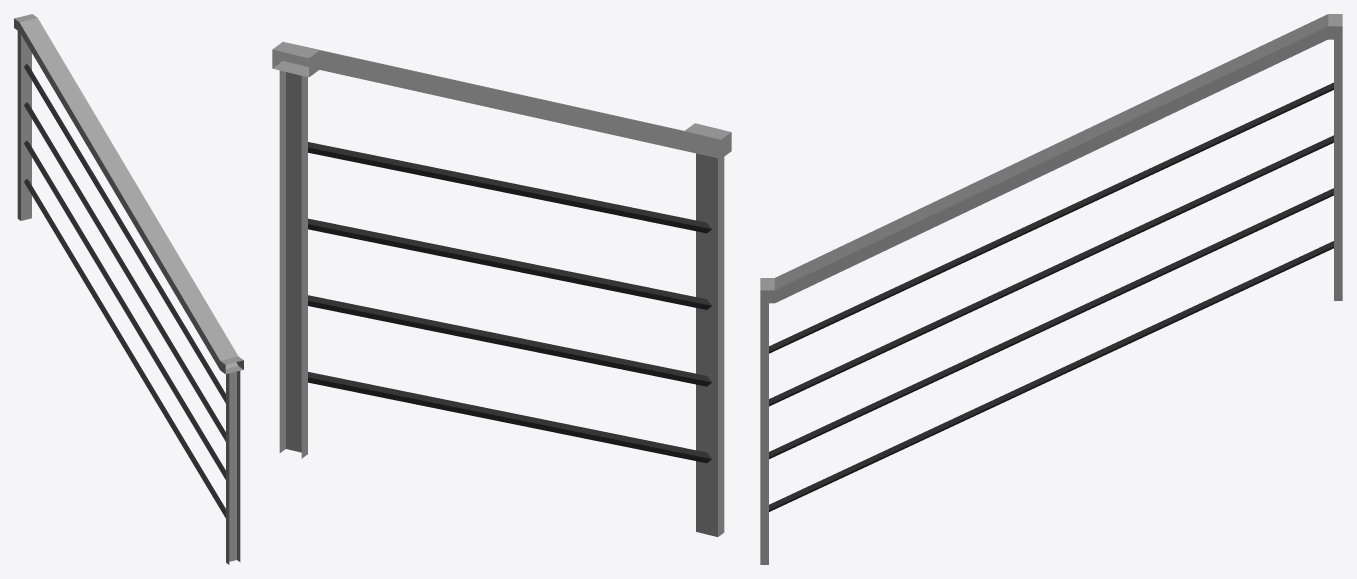
Rendered from Railings_D.fbx.
3 views of the same model, side by side, from view 1: azimuth 30°, elevation 25°; view 2: azimuth 150°, elevation 25°; view 3: azimuth 270°, elevation 25° (orthographic). The views are drawn at different scales.
Parts seen in each view (by area): view 1: Railing_D; view 2: Railing_D; view 3: Railing_D.
Part boxes in pixels (x1,y1,x2,y2): Railing_D: [14, 14, 243, 564]; Railing_D: [272, 42, 731, 536]; Railing_D: [760, 14, 1342, 564].
Size of the model in its own units: 10 by 205 by 200.
